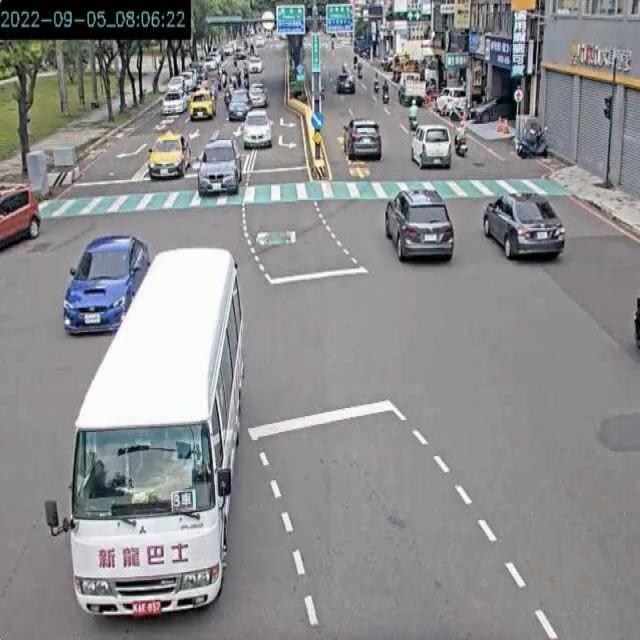Ad-signs: (274, 3, 305, 35), (325, 2, 353, 33)
Bus: (44, 245, 246, 618)
Car: (62, 234, 150, 335), (481, 190, 565, 260), (383, 187, 454, 262), (0, 182, 41, 250)
Motorcycle: (513, 124, 549, 159)
